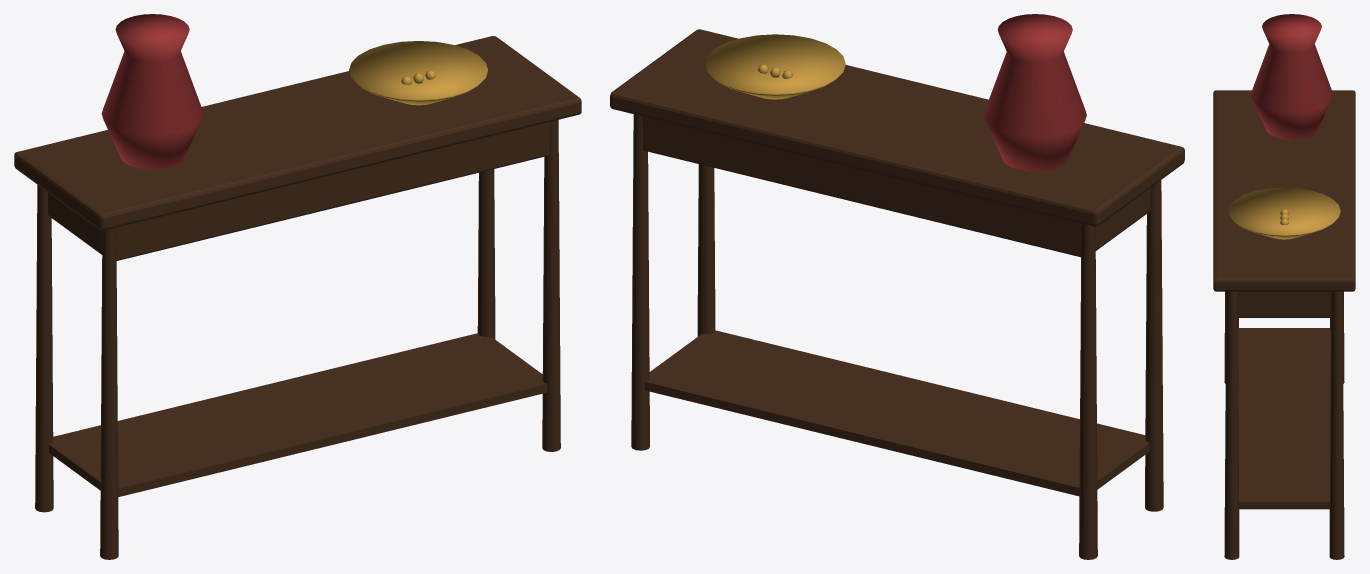
File: console_table.glb
The picture shows the model from 3 angles, left to right: view 1: azimuth 30°, elevation 25°; view 2: azimuth 150°, elevation 25°; view 3: azimuth 270°, elevation 25°; orthographic projection. The views are drawn at different scales.
Visible parts, largest first — view 1: console_table; view 2: console_table; view 3: console_table.
Part boxes in pixels (<box>): console_table: <box>14,14,581,559</box>; console_table: <box>610,14,1184,559</box>; console_table: <box>1213,14,1355,559</box>.
Bounding box in the file's own units: 1.2 × 1.14 × 0.38.
